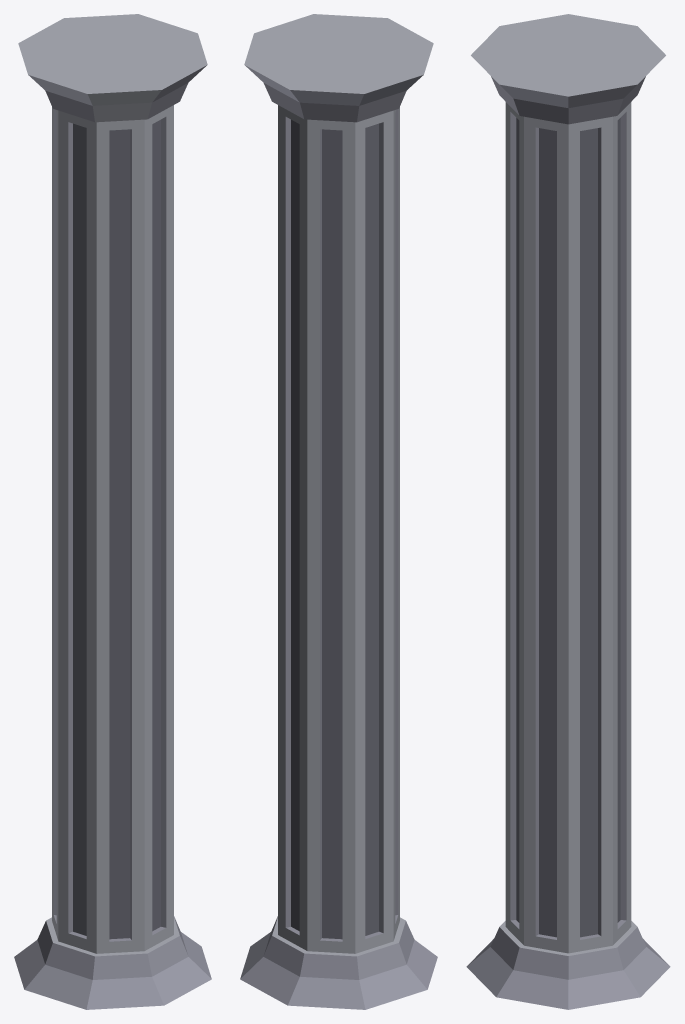
File: AntiquePillar.glb
3 renders of one model, left to right at view 1: azimuth 30°, elevation 25°; view 2: azimuth 150°, elevation 25°; view 3: azimuth 270°, elevation 25°, orthographic.
Visible parts, largest first — view 1: antique_pillar; view 2: antique_pillar; view 3: antique_pillar.
Part boxes in pixels (x1,y1,x2,y2): antique_pillar: (14,14,211,1009); antique_pillar: (240,14,437,1009); antique_pillar: (466,14,670,1009).
Size of what is drawn, in the model's own units: 0.8125 by 4 by 0.8125.
Materials: 1 (1 with a texture image).
